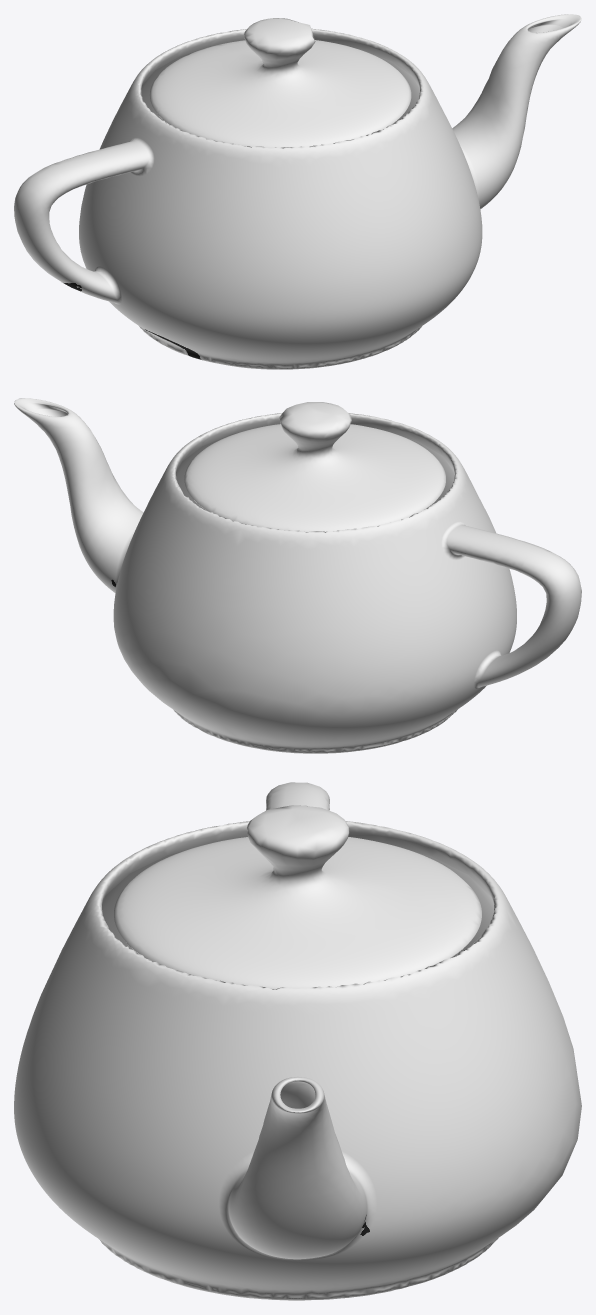
File: teapot_cgal_conformal_result.glb
3 renders of one model, top to bottom at view 1: azimuth 30°, elevation 25°; view 2: azimuth 150°, elevation 25°; view 3: azimuth 270°, elevation 25°, orthographic. The views are drawn at different scales.
Size of the model in its own units: 163 by 80.01 by 102.
1 material, 1 textured.
